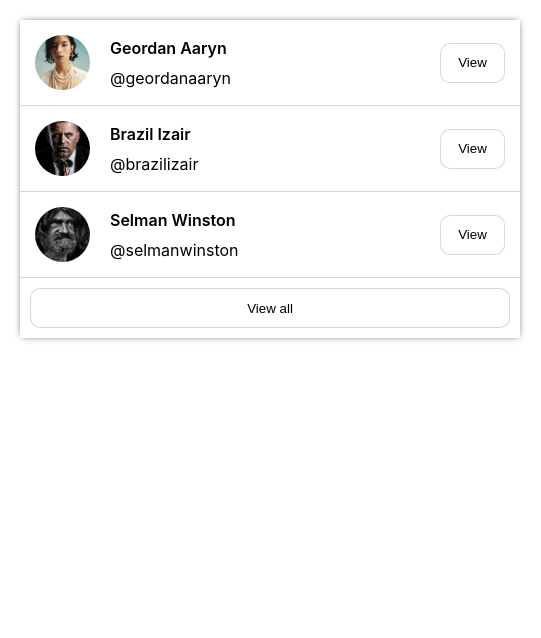
Scenario: expands on button click
Expected: the number of pictures with alt text "user" is 3, [35,35,90,90]; [35,121,90,176]; [35,207,90,262]
Click the button "View all" at (270, 308), box [30,288,510,328]
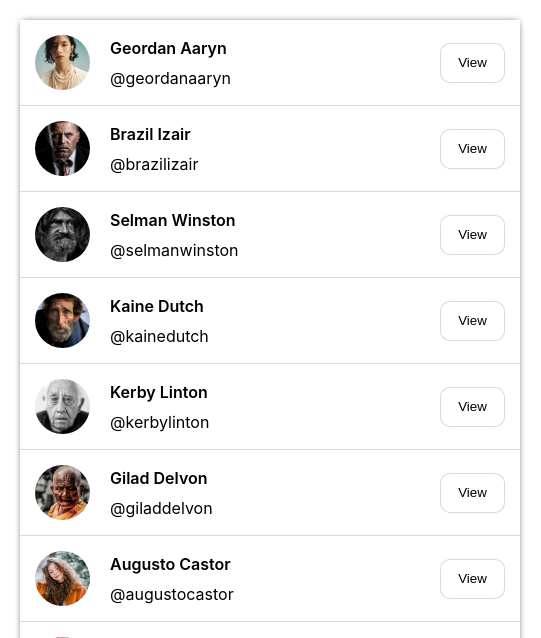
Expected: the number of pictures with alt text "user" is 10
